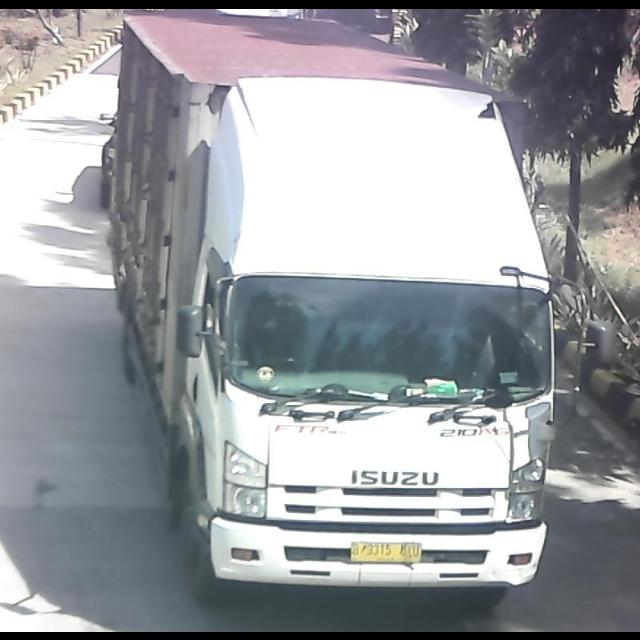plate: (347, 534, 425, 570)
